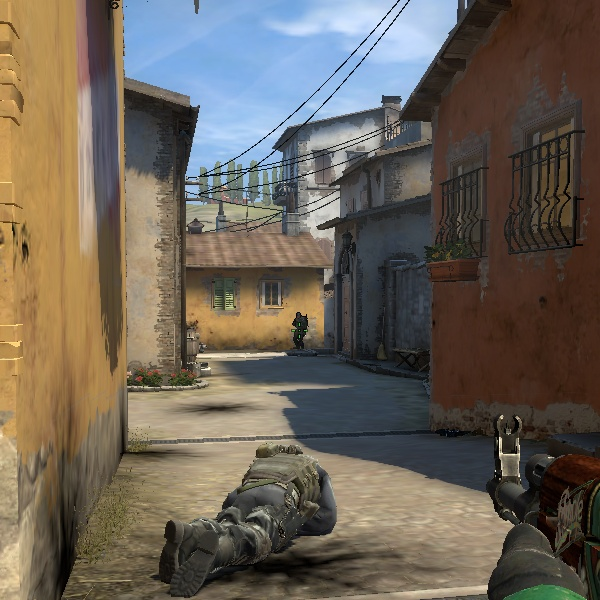ct_body: (287, 308, 310, 351)
